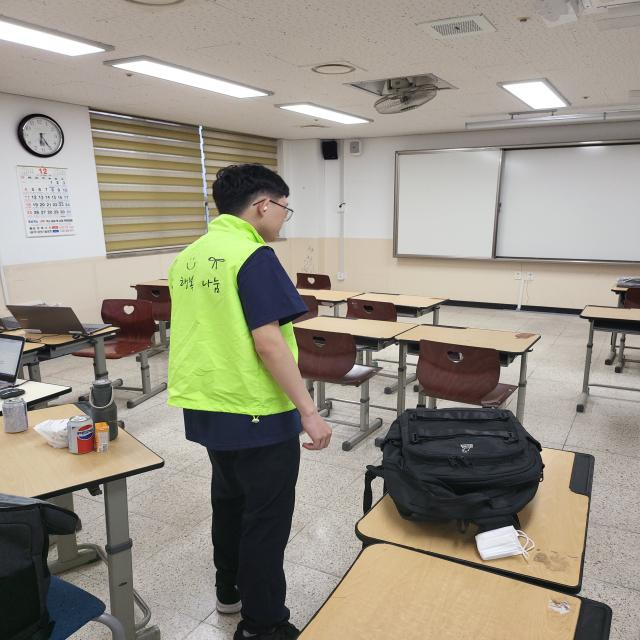weston_spy: (158, 209, 336, 438)
